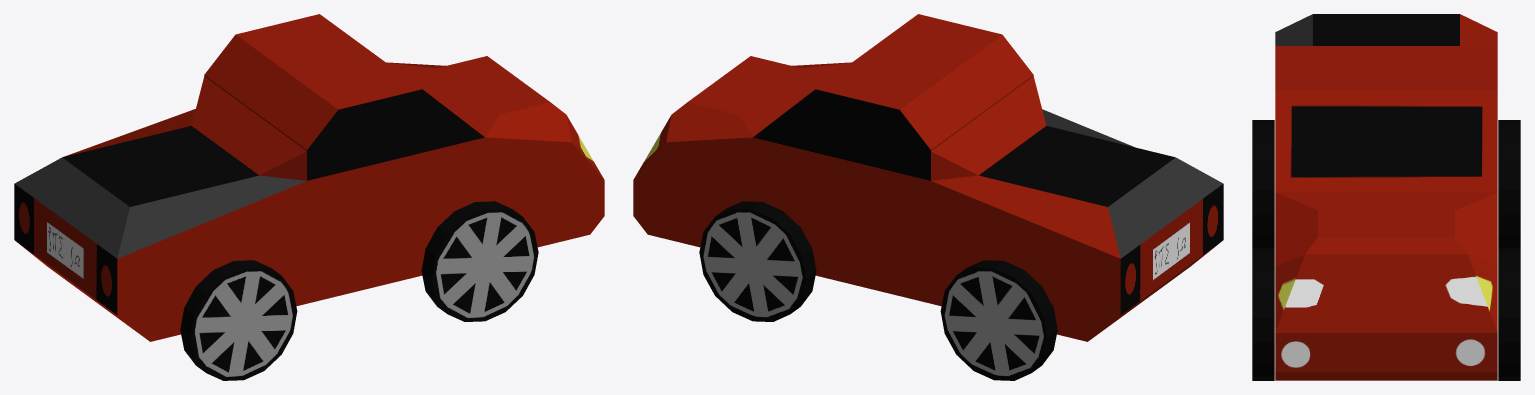
The model's file is car2_red.gltf.
The picture shows the model from 3 angles, left to right: view 1: azimuth 30°, elevation 25°; view 2: azimuth 150°, elevation 25°; view 3: azimuth 270°, elevation 25°; orthographic projection. The views are drawn at different scales.
Visible parts, largest first — view 1: car, tireBR, tireFR; view 2: car, tireBL, tireFL; view 3: car, tireFL, tireFR, tireBL, tireBR.
Boxes of the visible parts, bbox=[...] form: car: bbox=[14, 14, 604, 341]; tireBR: bbox=[180, 260, 297, 380]; tireFR: bbox=[421, 201, 538, 321]; car: bbox=[633, 14, 1223, 341]; tireBL: bbox=[940, 260, 1057, 380]; tireFL: bbox=[699, 201, 816, 321]; car: bbox=[1275, 14, 1497, 380]; tireFL: bbox=[1498, 247, 1520, 380]; tireFR: bbox=[1252, 247, 1274, 380]; tireBL: bbox=[1498, 120, 1520, 247]; tireBR: bbox=[1252, 120, 1274, 247].
Bounding box in the file's own units: 5.47 × 2.55 × 2.41.
Materials: 5 (5 with a texture image).
